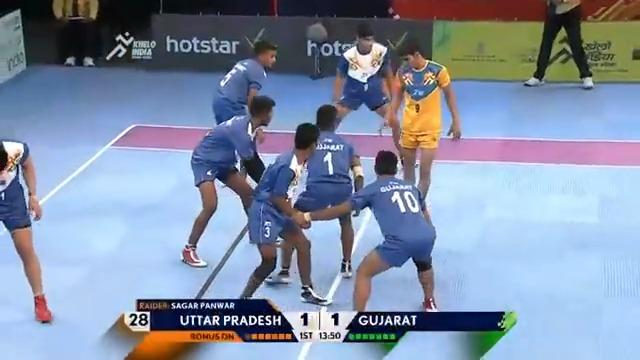Player: (290, 148, 440, 312), (178, 93, 277, 268), (0, 136, 55, 325), (211, 37, 278, 184), (329, 21, 397, 133)
Raider: (386, 32, 463, 212)
referee: (523, 0, 595, 89), (52, 0, 100, 67)
